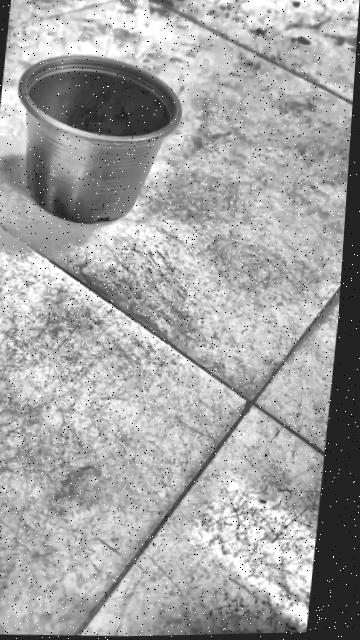pot: (3, 52, 188, 228)
